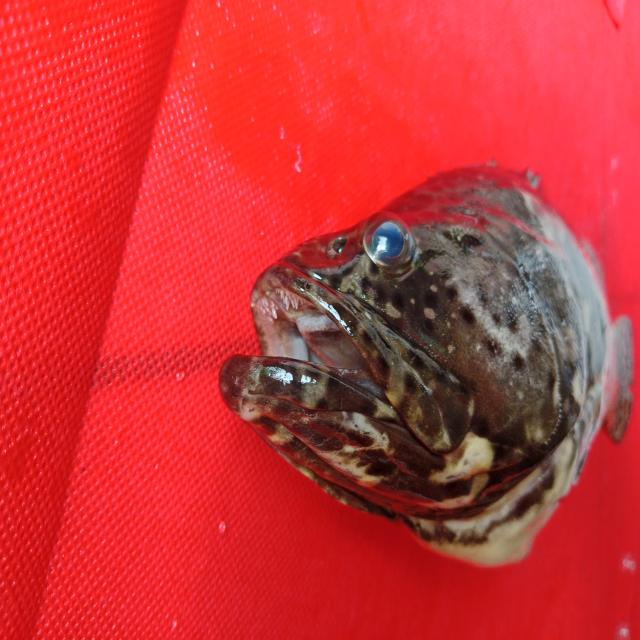ikan: (188, 126, 634, 584)
